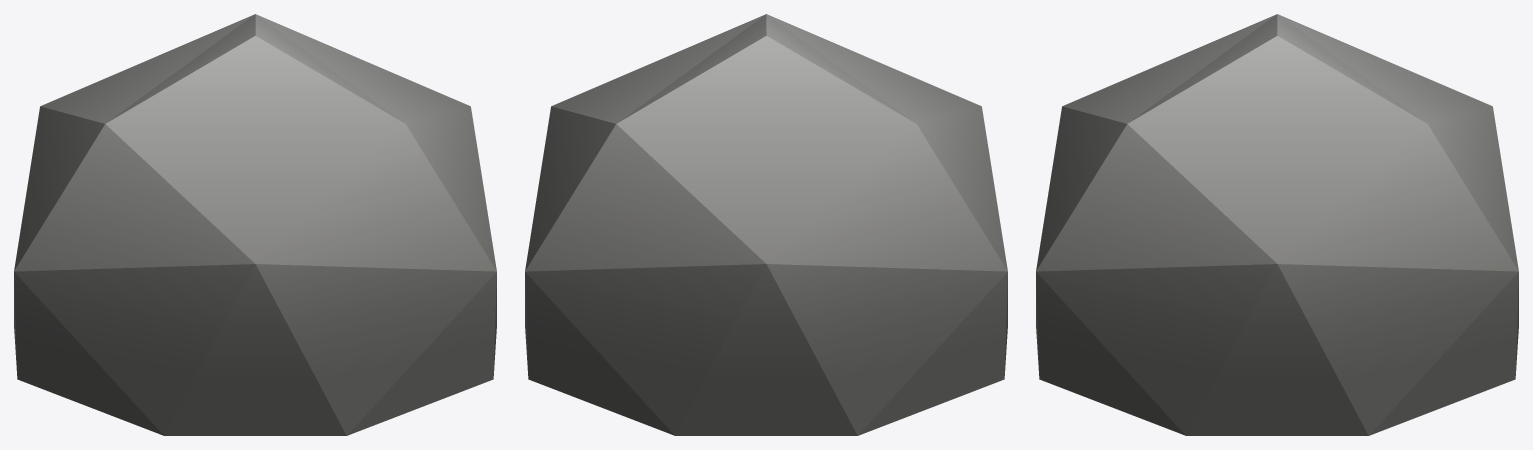
Rendered from Rock_04_1__5_.fbx.
3 views of the same model, side by side, from view 1: azimuth 30°, elevation 25°; view 2: azimuth 150°, elevation 25°; view 3: azimuth 270°, elevation 25° (orthographic).
Parts seen in each view (by area): view 1: Rock_04_1__5_; view 2: Rock_04_1__5_; view 3: Rock_04_1__5_.
Boxes of the visible parts, <box> form: Rock_04_1__5_: <box>14,14,496,435</box>; Rock_04_1__5_: <box>525,14,1007,435</box>; Rock_04_1__5_: <box>1036,14,1518,435</box>.
Bounding box in the file's own units: 4041 × 2577 × 3700.
